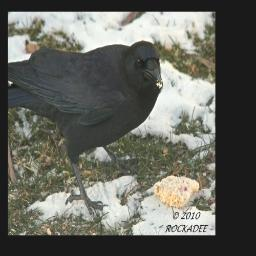Crow: (9, 40, 163, 215)
